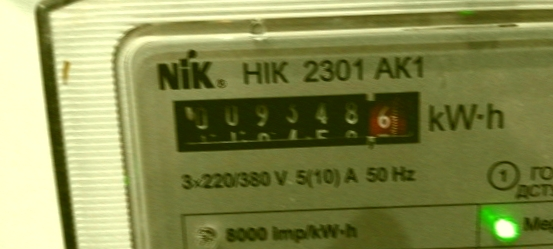0: (192, 105, 209, 132), (223, 101, 238, 128)
3: (284, 100, 299, 125)
4: (310, 96, 330, 127)
6: (374, 102, 392, 131)
8: (343, 98, 359, 127)
9: (254, 103, 269, 130)
screen: (154, 76, 435, 165)
